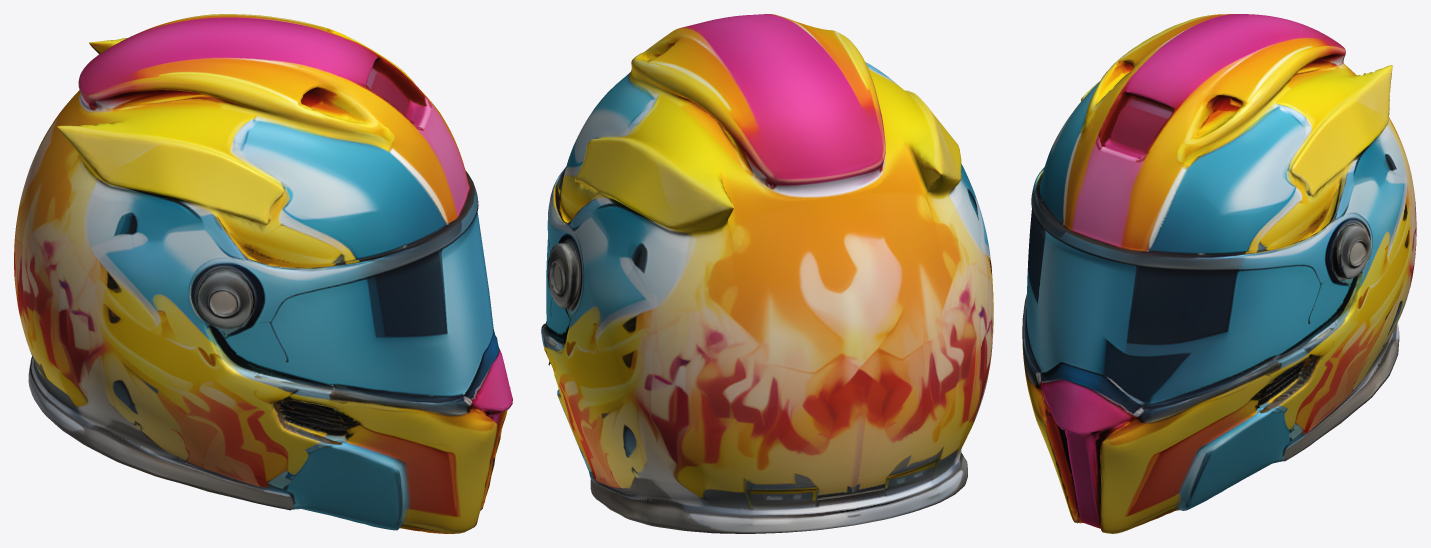
The model's file is handpainted_punk_mask_face.glb.
3 renders of one model, left to right at view 1: azimuth 30°, elevation 25°; view 2: azimuth 150°, elevation 25°; view 3: azimuth 270°, elevation 25°, orthographic. The views are drawn at different scales.
Parts seen in each view (by area): view 1: model_0; view 2: model_0; view 3: model_0.
Boxes of the visible parts, <box> form: model_0: <box>14,14,512,533</box>; model_0: <box>541,14,993,533</box>; model_0: <box>1022,14,1416,533</box>.
Bounding box in the file's own units: 1.64 × 1.9 × 1.57.
1 material, 1 textured.
